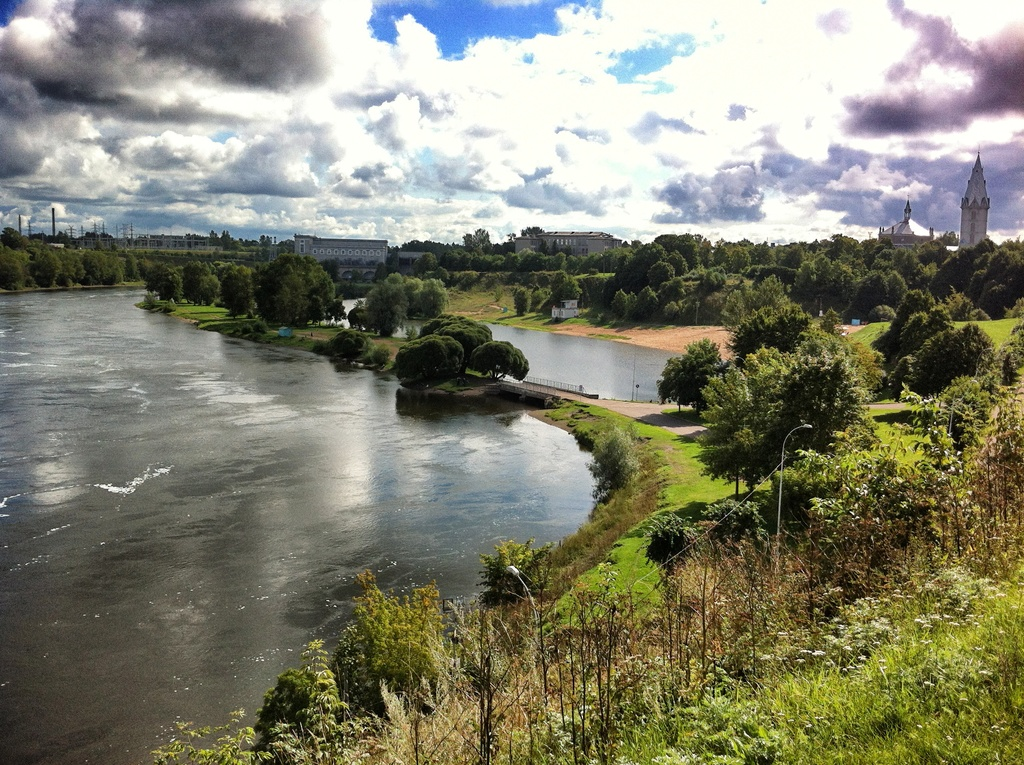Tree: (516, 225, 1023, 327), (698, 345, 874, 498), (327, 566, 465, 738), (880, 291, 995, 403), (0, 217, 148, 296), (398, 312, 533, 397), (254, 250, 342, 334), (348, 271, 453, 341), (730, 304, 853, 361), (658, 339, 723, 421), (387, 229, 513, 271), (142, 251, 213, 306), (215, 263, 255, 323), (326, 327, 376, 366), (519, 222, 549, 238)
